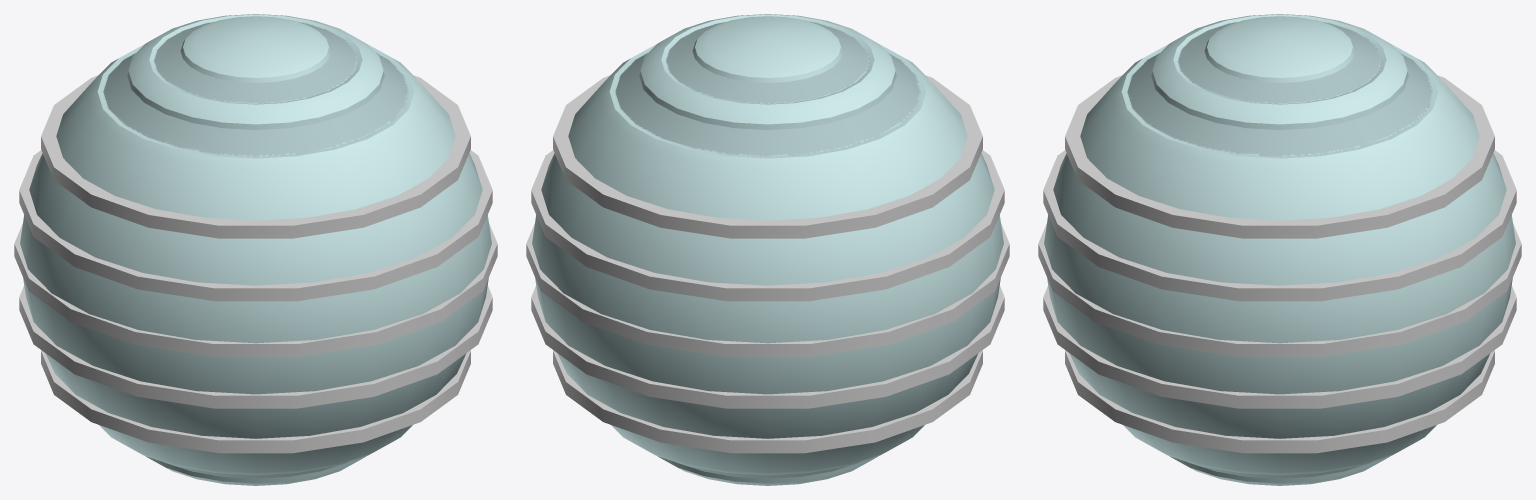
Rendered from Ball.fbx.
3 views of the same model, side by side, from view 1: azimuth 30°, elevation 25°; view 2: azimuth 150°, elevation 25°; view 3: azimuth 270°, elevation 25° (orthographic).
Parts seen in each view (by area): view 1: Ball; view 2: Ball; view 3: Ball.
Part boxes in pixels (x1,y1,x2,y2): Ball: [14, 14, 497, 485]; Ball: [526, 14, 1009, 485]; Ball: [1038, 14, 1521, 485].
Size of the model in its own units: 201 by 200 by 204.
